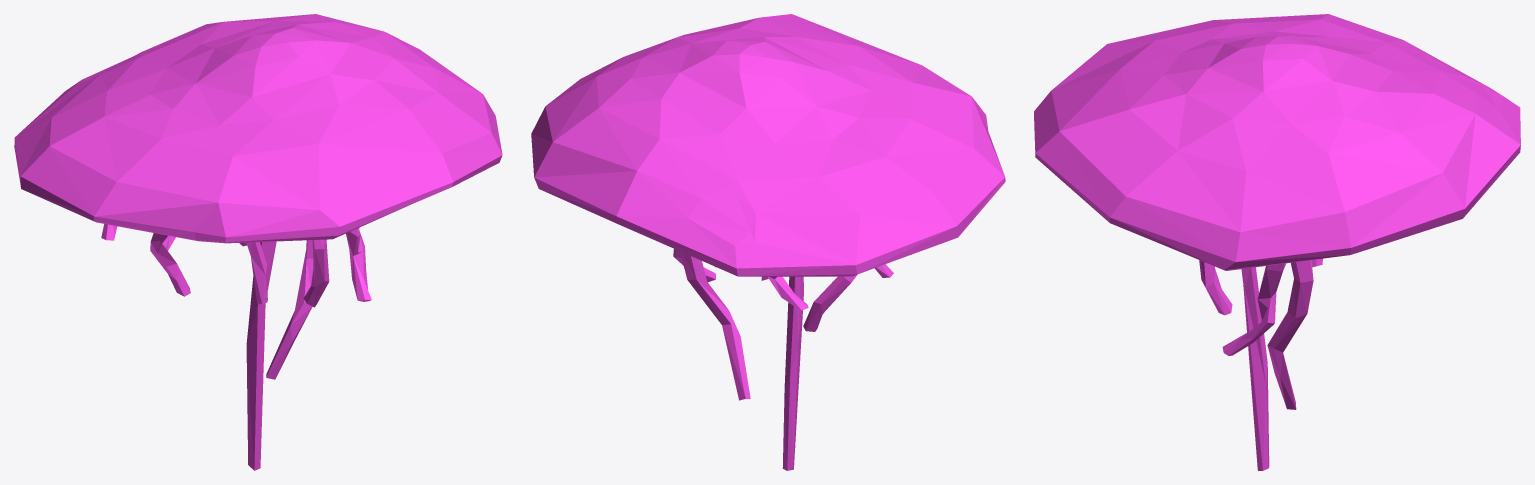
File: SM_Mushroom_Jellyfish_Medium_A_Fantasy.fbx
The picture shows the model from 3 angles, left to right: view 1: azimuth 30°, elevation 25°; view 2: azimuth 150°, elevation 25°; view 3: azimuth 270°, elevation 25°; orthographic projection. The views are drawn at different scales.
Parts seen in each view (by area): view 1: SM_Mushroom_Jellyfish_Medium_A_Fantasy; view 2: SM_Mushroom_Jellyfish_Medium_A_Fantasy; view 3: SM_Mushroom_Jellyfish_Medium_A_Fantasy.
Part boxes in pixels (<box>): SM_Mushroom_Jellyfish_Medium_A_Fantasy: <box>14,14,502,470</box>; SM_Mushroom_Jellyfish_Medium_A_Fantasy: <box>531,14,1005,470</box>; SM_Mushroom_Jellyfish_Medium_A_Fantasy: <box>1034,14,1520,470</box>.
Size of the model in its own units: 1.38 by 1.28 by 1.27.
